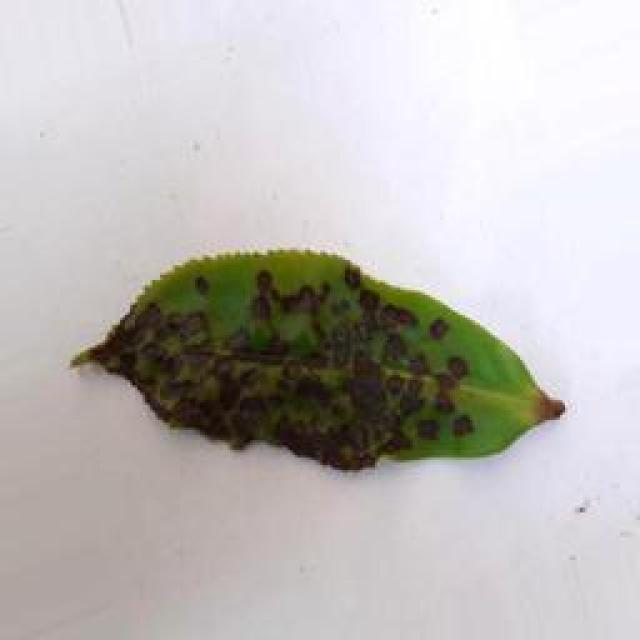Helopeltis: (68, 237, 573, 479)
